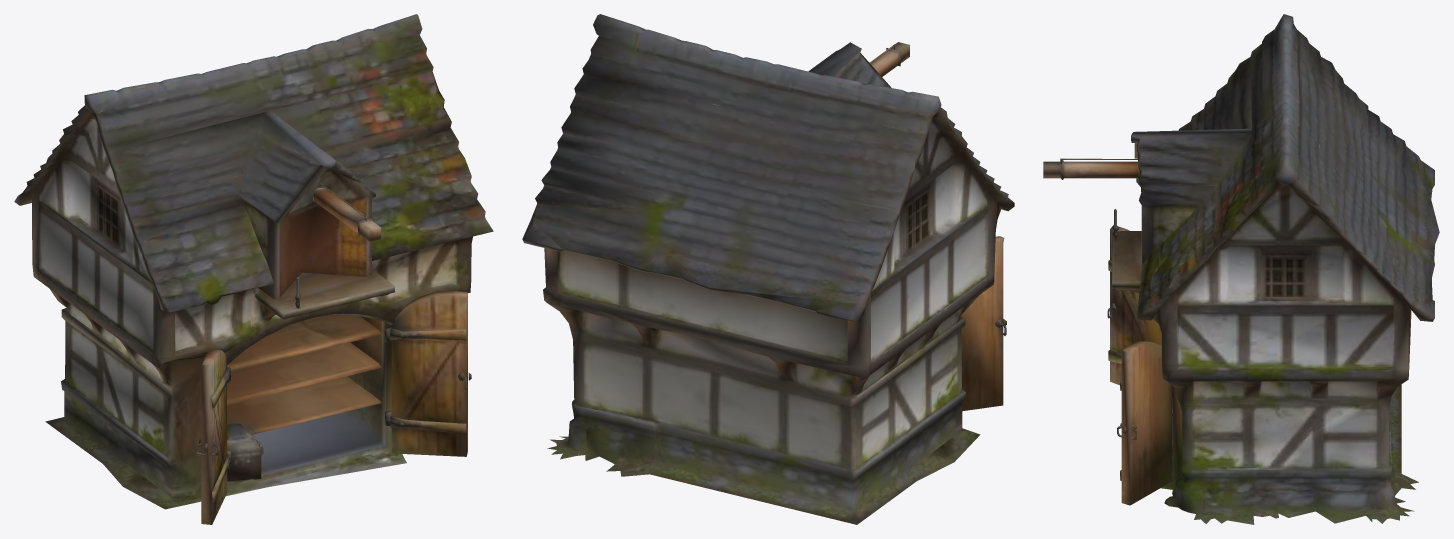
File: civic_storage_barn.glb
3 renders of one model, left to right at view 1: azimuth 30°, elevation 25°; view 2: azimuth 150°, elevation 25°; view 3: azimuth 270°, elevation 25°, orthographic. The views are drawn at different scales.
Parts seen in each view (by area): view 1: tripo_node_d91e0ceb-40e0-40a9-b5c4-8cc2294840e7; view 2: tripo_node_d91e0ceb-40e0-40a9-b5c4-8cc2294840e7; view 3: tripo_node_d91e0ceb-40e0-40a9-b5c4-8cc2294840e7.
Part boxes in pixels (box(x1,y1,x2,y2)): tripo_node_d91e0ceb-40e0-40a9-b5c4-8cc2294840e7: box(14, 14, 493, 524); tripo_node_d91e0ceb-40e0-40a9-b5c4-8cc2294840e7: box(522, 14, 1014, 524); tripo_node_d91e0ceb-40e0-40a9-b5c4-8cc2294840e7: box(1043, 14, 1439, 524).
Bounding box in the file's own units: 6.94 × 7.5 × 7.53.
Materials: 1 (1 with a texture image).
